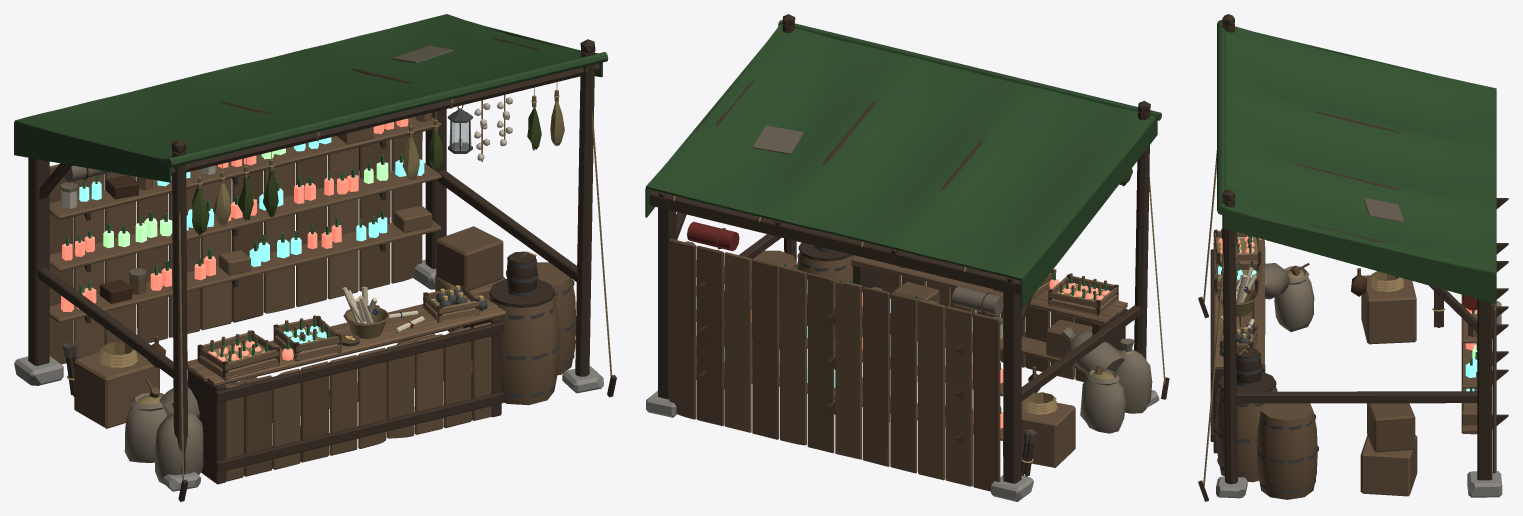
File: stand_provisions.glb
3 views of the same model, side by side, from view 1: azimuth 30°, elevation 25°; view 2: azimuth 150°, elevation 25°; view 3: azimuth 270°, elevation 25° (orthographic). The views are drawn at different scales.
Parts seen in each view (by area): view 1: stand_provisions; view 2: stand_provisions; view 3: stand_provisions.
Part boxes in pixels (left/top/right/bottom): stand_provisions: left=14, top=14, right=616, bottom=501; stand_provisions: left=645, top=14, right=1169, bottom=501; stand_provisions: left=1198, top=14, right=1508, bottom=501.
Size of what is drawn, in the model's own units: 4.49 by 3.41 by 3.11.
